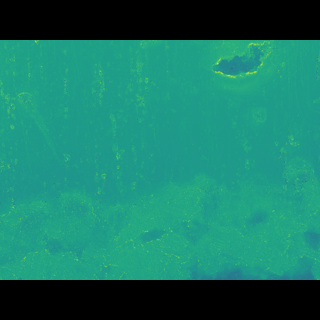Loch: (0, 157, 320, 250), (197, 70, 282, 105)
